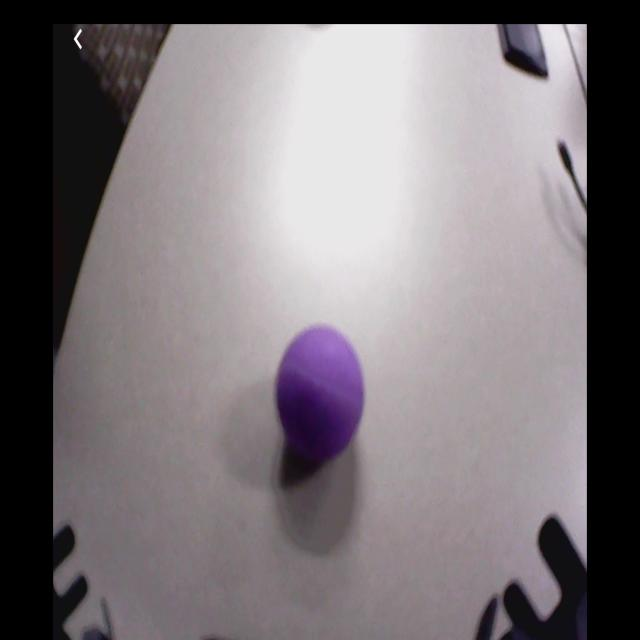ball: (275, 323, 366, 462)
